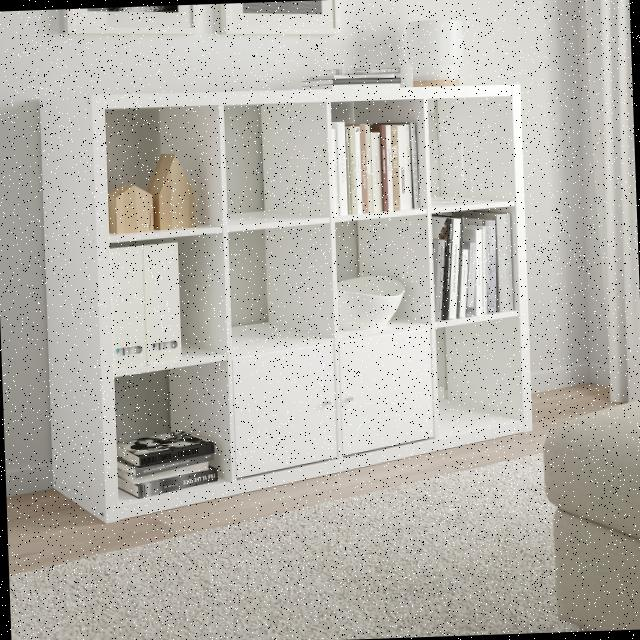Shelf: (26, 72, 542, 526)
